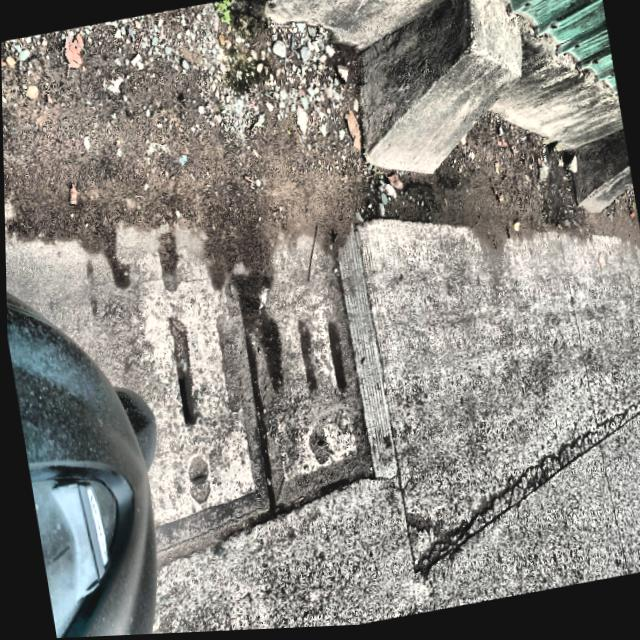clogged_drains: (114, 225, 371, 557)
